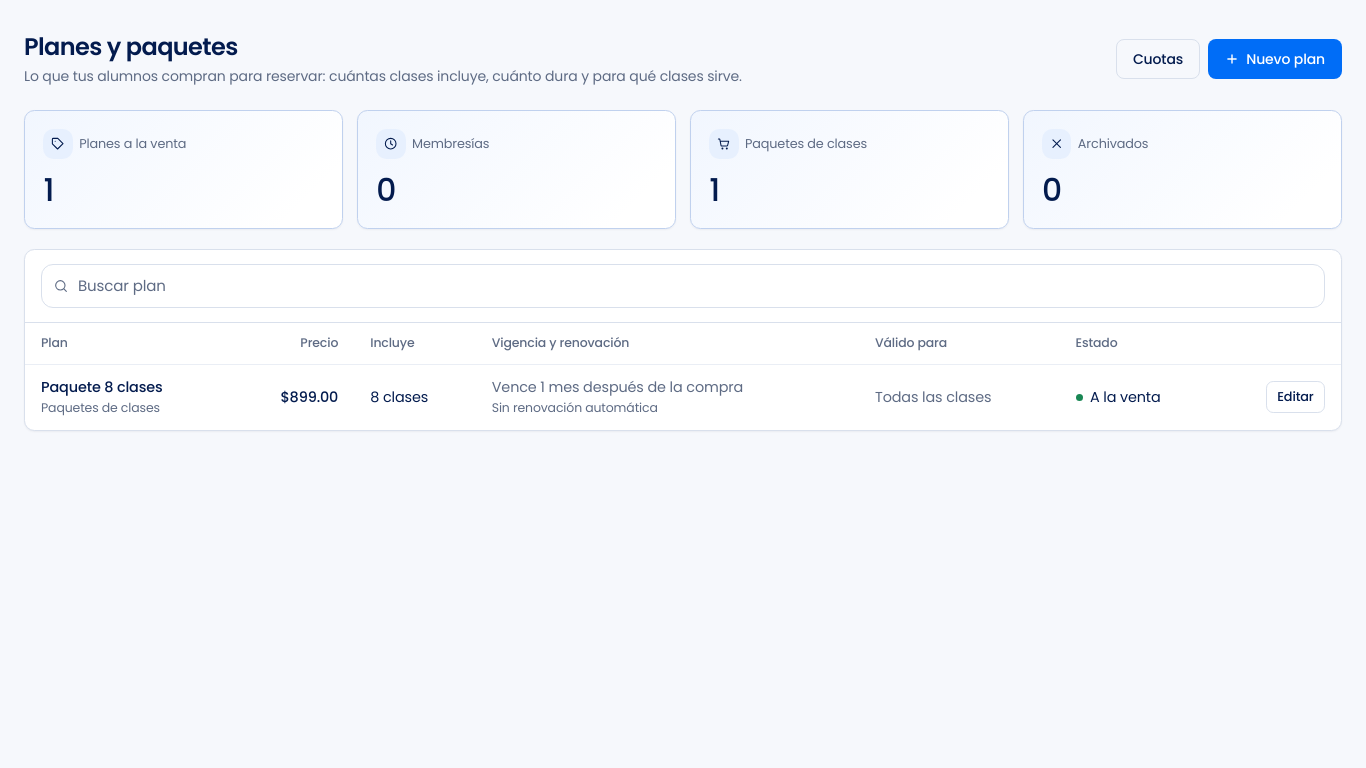
Test: planes y paquetes › el editor guarda desde el pie del diálogo, desactivado mientras falte algo
Click the button "Editar".
click(1295, 397)  # box [1266,381,1325,413]
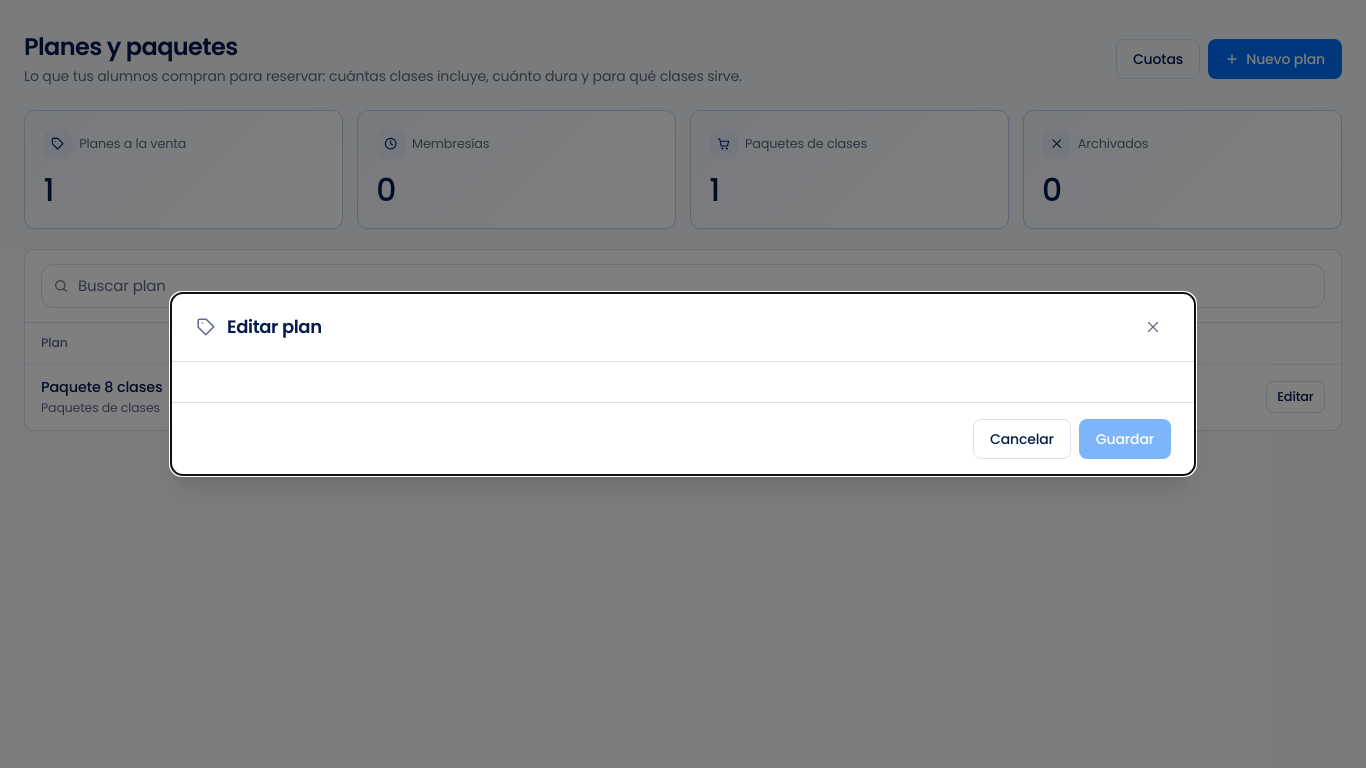
Expected: the button "Guardar" is disabled, [1079,419,1171,459]
